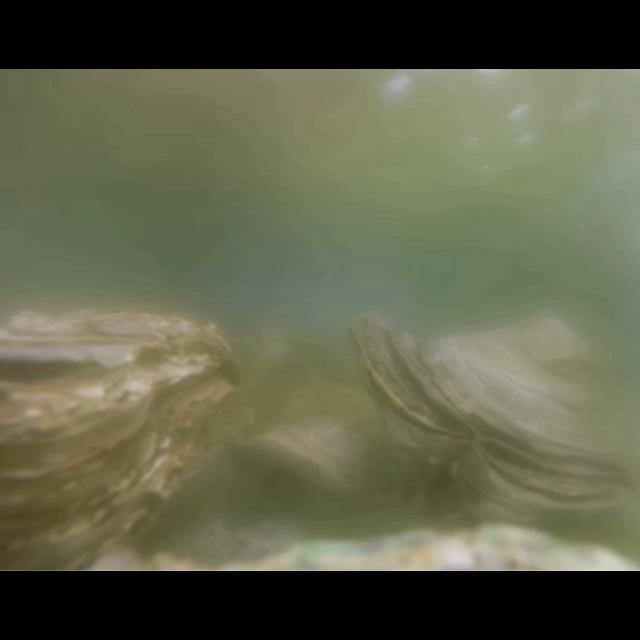Oyster-Closed: (0, 306, 256, 572), (347, 310, 640, 524)
Oyster-Indeterminate: (230, 382, 404, 508)
